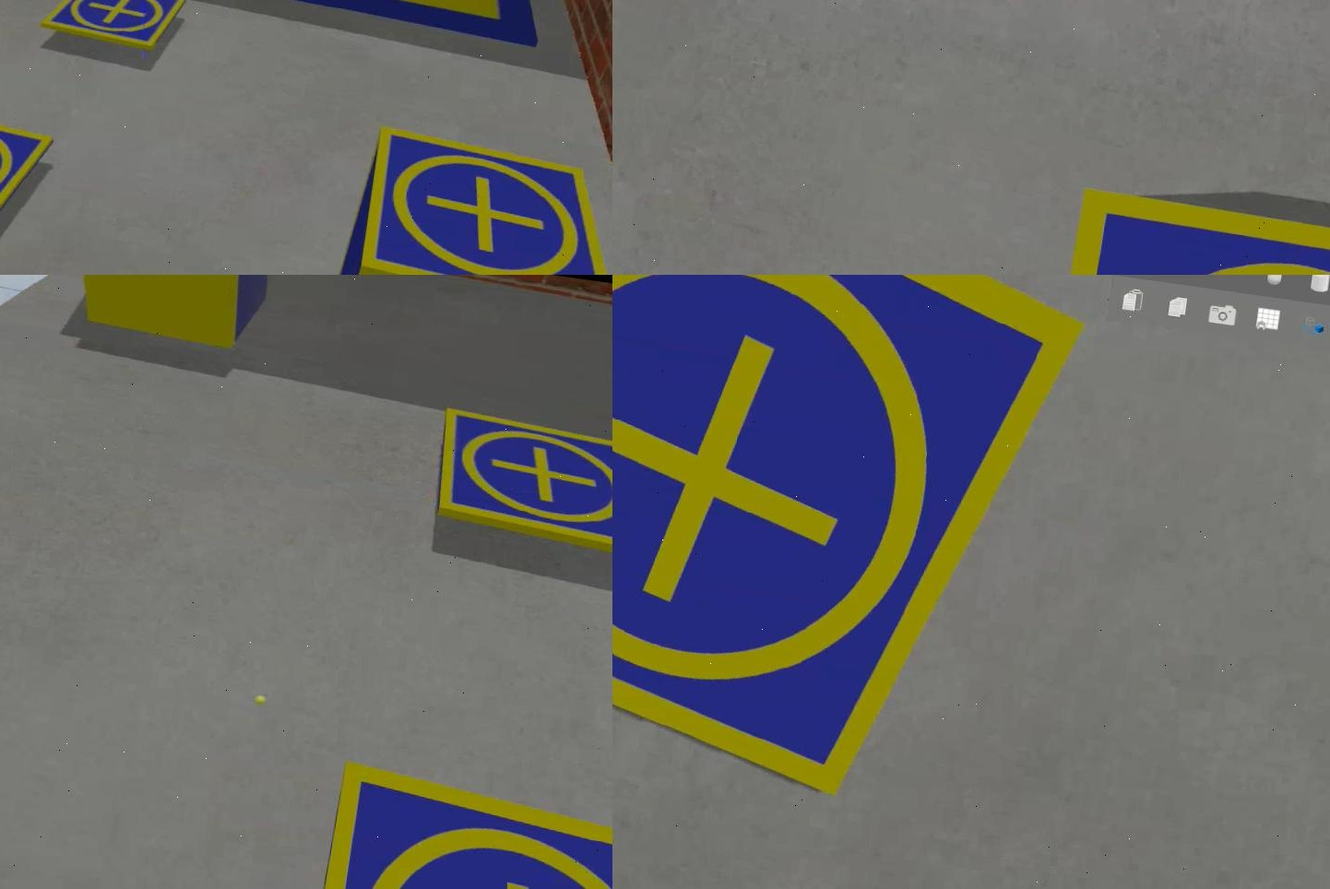large_base: (238, 1, 552, 49)
small_base: (611, 275, 1098, 826), (308, 756, 611, 889), (355, 123, 611, 275), (426, 411, 611, 561), (40, 1, 186, 53), (0, 99, 51, 245)
